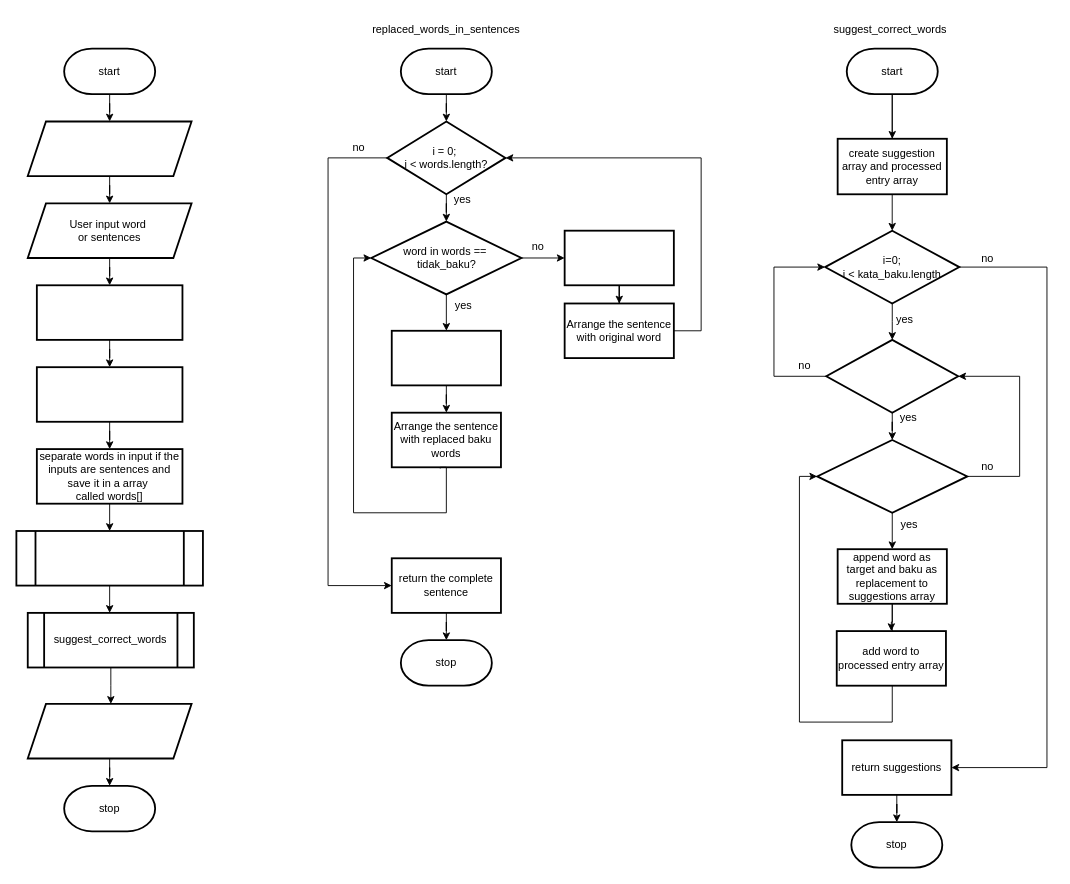
This 1070x884 diagram has some shape labels left out. The centre of each missing label's shape, as x and y in pixels:
Display user interface (input & output area, button): (109,148)
i = 0; i < words_to_check: (892,376)
lowercase and erase the indentation of input: (109,394)
print replaced_sentence and suggestions: (109,731)
Replace word to baku_word word = baku_word: (445,357)
replaced_word_in_sentences: (109,558)
send input to server (program.py): (109,312)
word = word: (618,257)
word in words == tidak_baku? && word is not in processed entry: (892,476)
